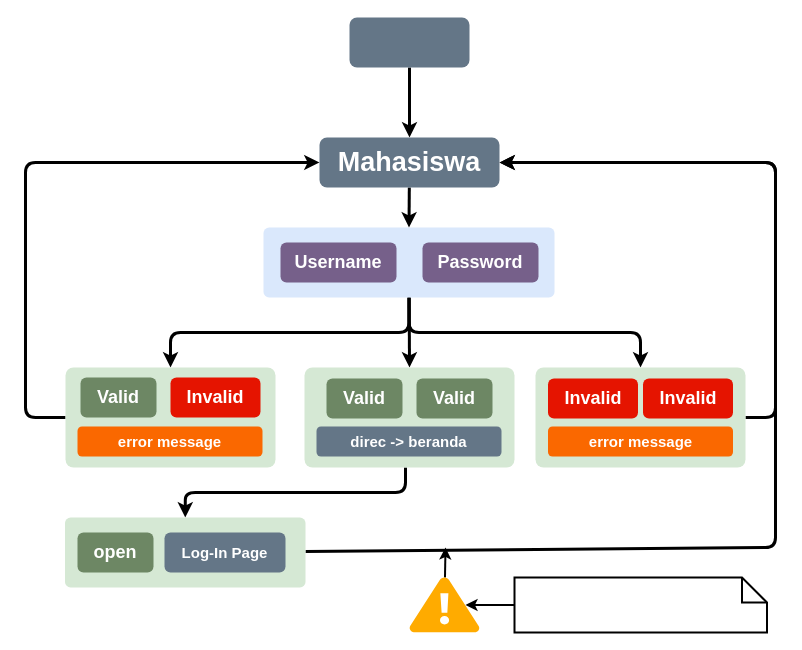
The diagram is 802 pixels wide and 650 high, and some of its shapes have lost their labels. Each missing label, with the centre of its shape:
Login: point (409, 42)
Sistem tidak melakukan pengecekan Sesi: point (640, 604)
